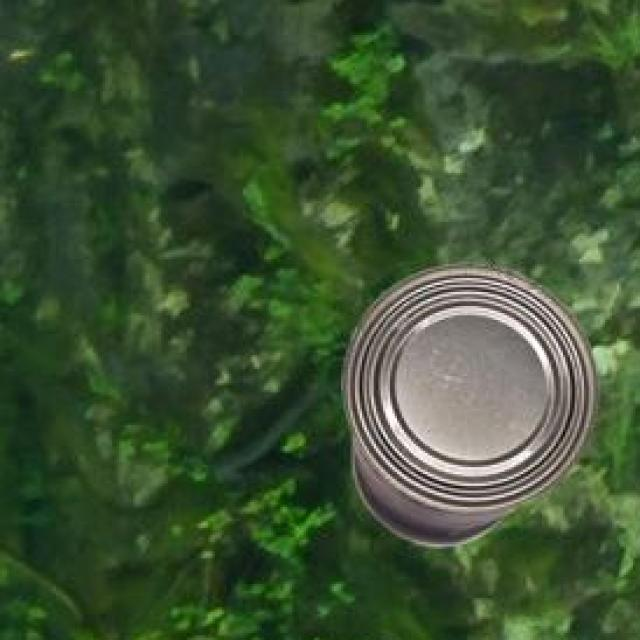logam: (340, 267, 594, 550)
